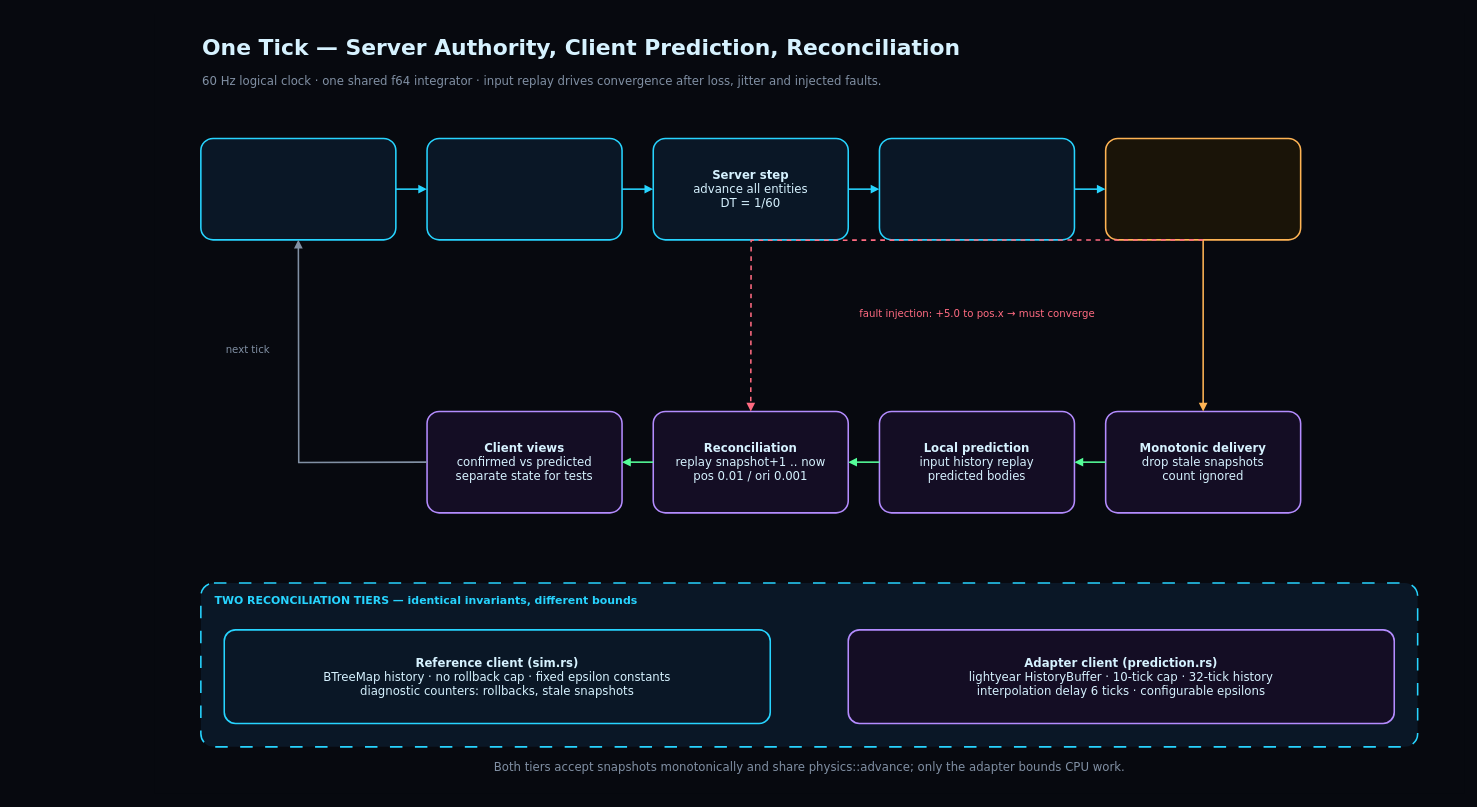
Image size: 1477x807. Some labels were removed from this diagram. The centre of each missing label's shape, as x and y in pixels:
Hold last input keyed by tick duplicate/stale rejected: point 524,188
Input ingest owner · range · sequence hooks · rate limit: point 298,188
Network fault model latency · jitter · loss seeded LCG: point 1202,188
Opt-in snapshot replicate=true only server_only hidden: point 976,188
